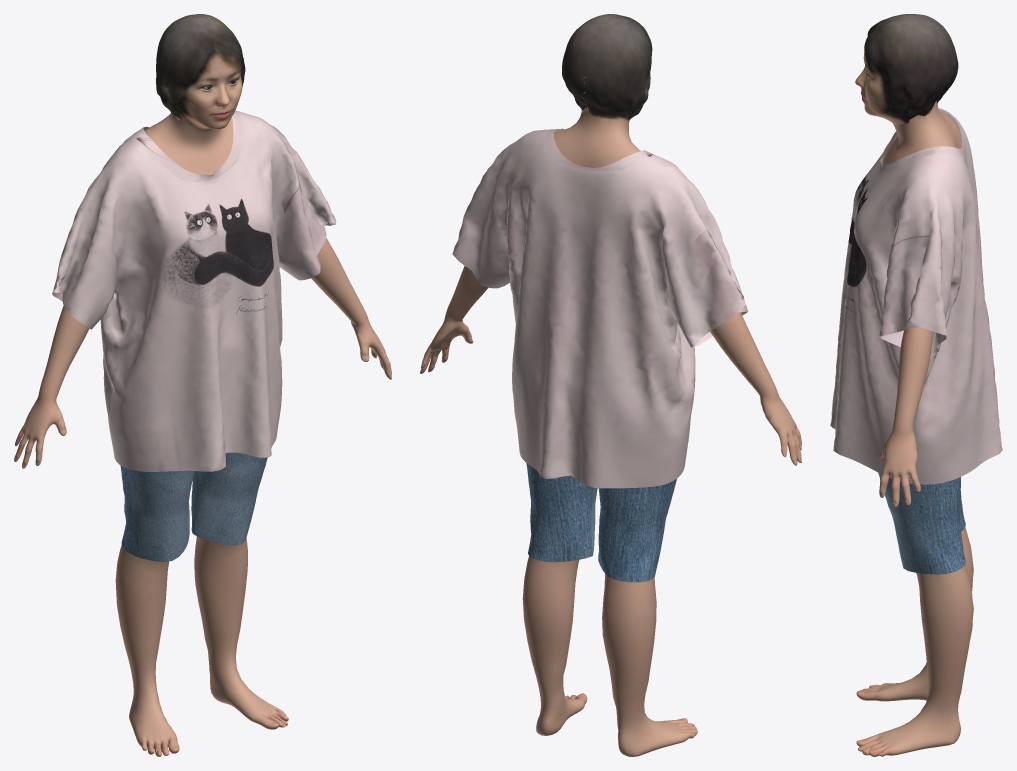
Rendered from XU_Fitted_2XL.fbx.
The picture shows the model from 3 angles, left to right: view 1: azimuth 30°, elevation 25°; view 2: azimuth 150°, elevation 25°; view 3: azimuth 270°, elevation 25°; orthographic projection.
Visible parts, largest first — view 1: XU_2XL, model.001, XU_Pants.001; view 2: XU_2XL, model.001, XU_Pants.001; view 3: XU_2XL, model.001, XU_Pants.001.
Boxes of the visible parts, x1,y1,x2,y2 form: XU_2XL: (52, 110, 336, 471); model.001: (14, 14, 391, 756); XU_Pants.001: (120, 452, 267, 562); XU_2XL: (452, 128, 748, 488); model.001: (420, 14, 801, 756); XU_Pants.001: (526, 463, 676, 582); XU_2XL: (830, 108, 1002, 484); model.001: (855, 14, 973, 756); XU_Pants.001: (878, 473, 965, 574).
Bounding box in the file's own units: 9182 × 16642 × 3681.
3 materials, 3 textured.
